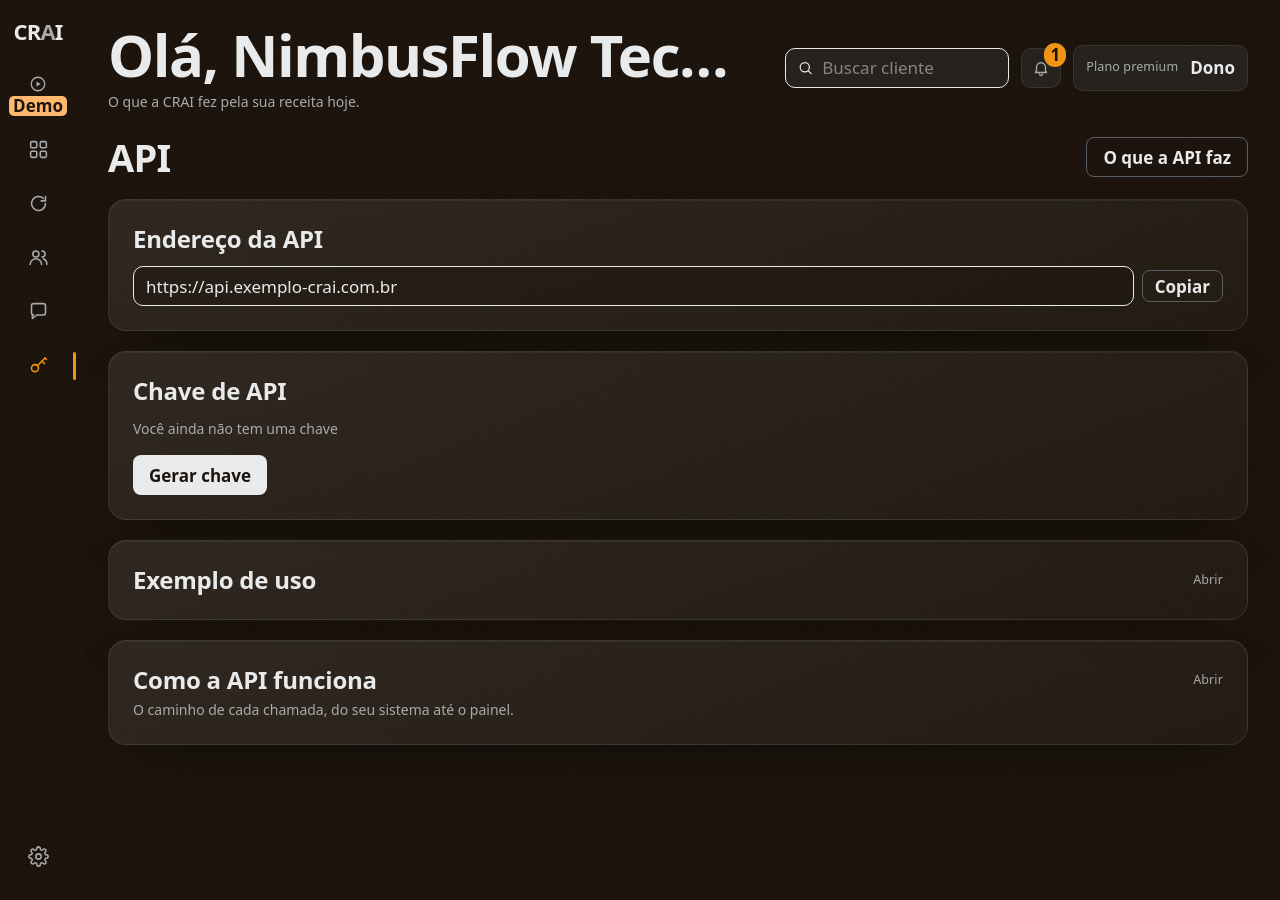
Scenario: aba API em demonstração: gerar e revogar › a primeira chave: o botão "Gerar chave" vira o link "Gerar outra chave"
The image size is (1280, 900).
Click the button "Gerar chave": (200, 475) x1=133 y1=455 x2=267 y2=495
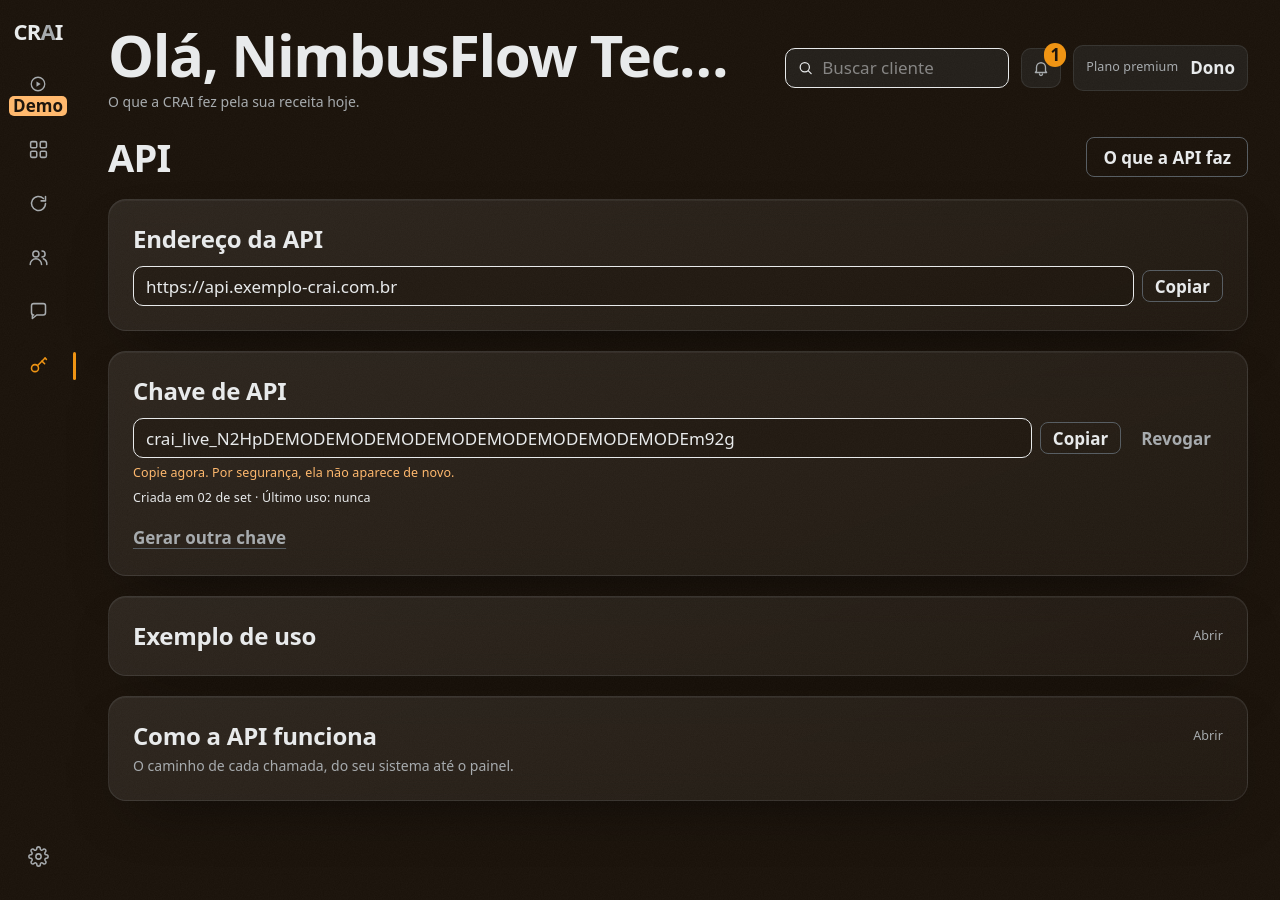
Now the field named "Chave de API, inteira" holds "crai_live_N2HpDEMODEMODEMODEMODEMODEMODEMODEMODEm92g", box x1=133 y1=418 x2=1032 y2=458
Now the text "Você ainda não tem uma chave" is gone
Now the button "Gerar chave" is gone
